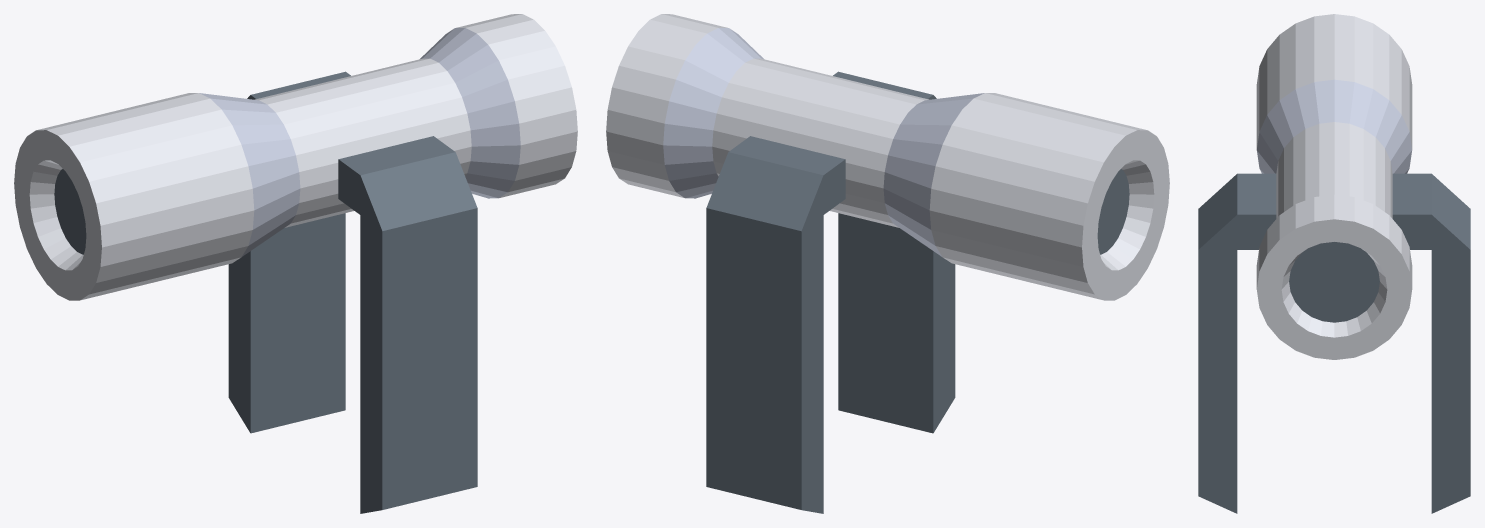
The model's file is Sight_D.fbx.
3 renders of one model, left to right at view 1: azimuth 30°, elevation 25°; view 2: azimuth 150°, elevation 25°; view 3: azimuth 270°, elevation 25°, orthographic. The views are drawn at different scales.
Parts seen in each view (by area): view 1: polySurface575; view 2: polySurface575; view 3: polySurface575.
Boxes of the visible parts, x1,y1,x2,y2 form: polySurface575: (14,14,577,513); polySurface575: (606,14,1169,513); polySurface575: (1198,14,1470,513).
Size of the model in its own units: 25 by 20 by 14.
